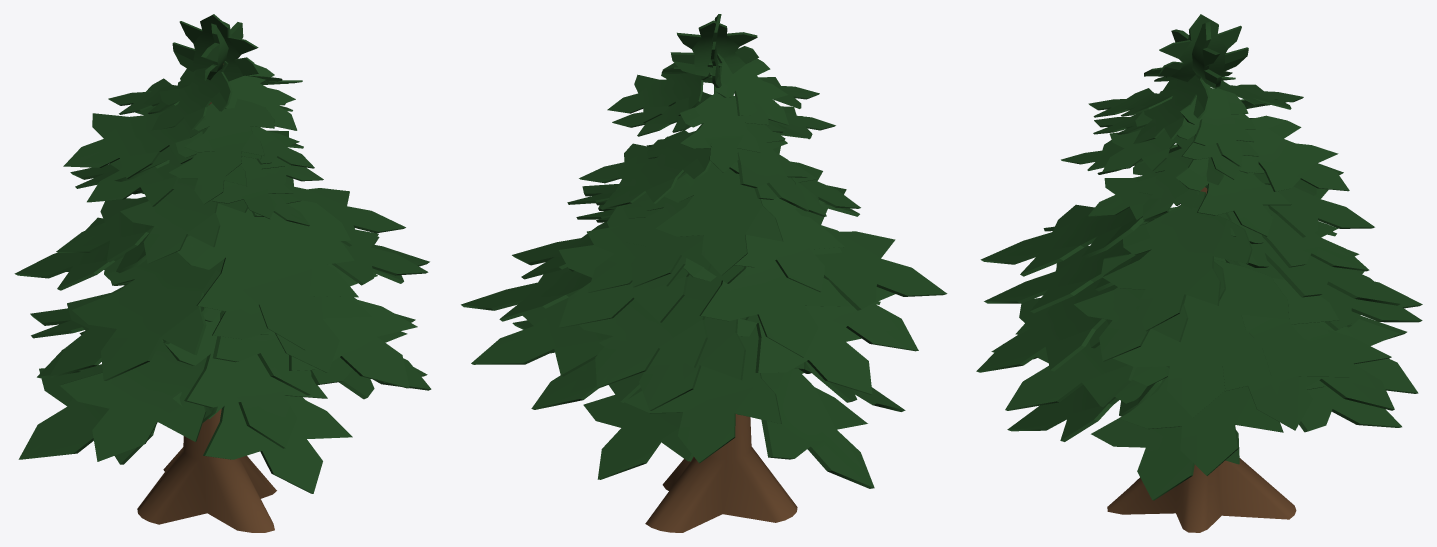
File: tree.fbx
3 views of the same model, side by side, from view 1: azimuth 30°, elevation 25°; view 2: azimuth 150°, elevation 25°; view 3: azimuth 270°, elevation 25° (orthographic).
Parts seen in each view (by area): view 1: pCube21; view 2: pCube21; view 3: pCube21.
Boxes of the visible parts, <box> form: pCube21: <box>14,14,431,532</box>; pCube21: <box>461,14,947,532</box>; pCube21: <box>976,14,1422,532</box>.
Bounding box in the file's own units: 5.75 × 6.76 × 5.59.
